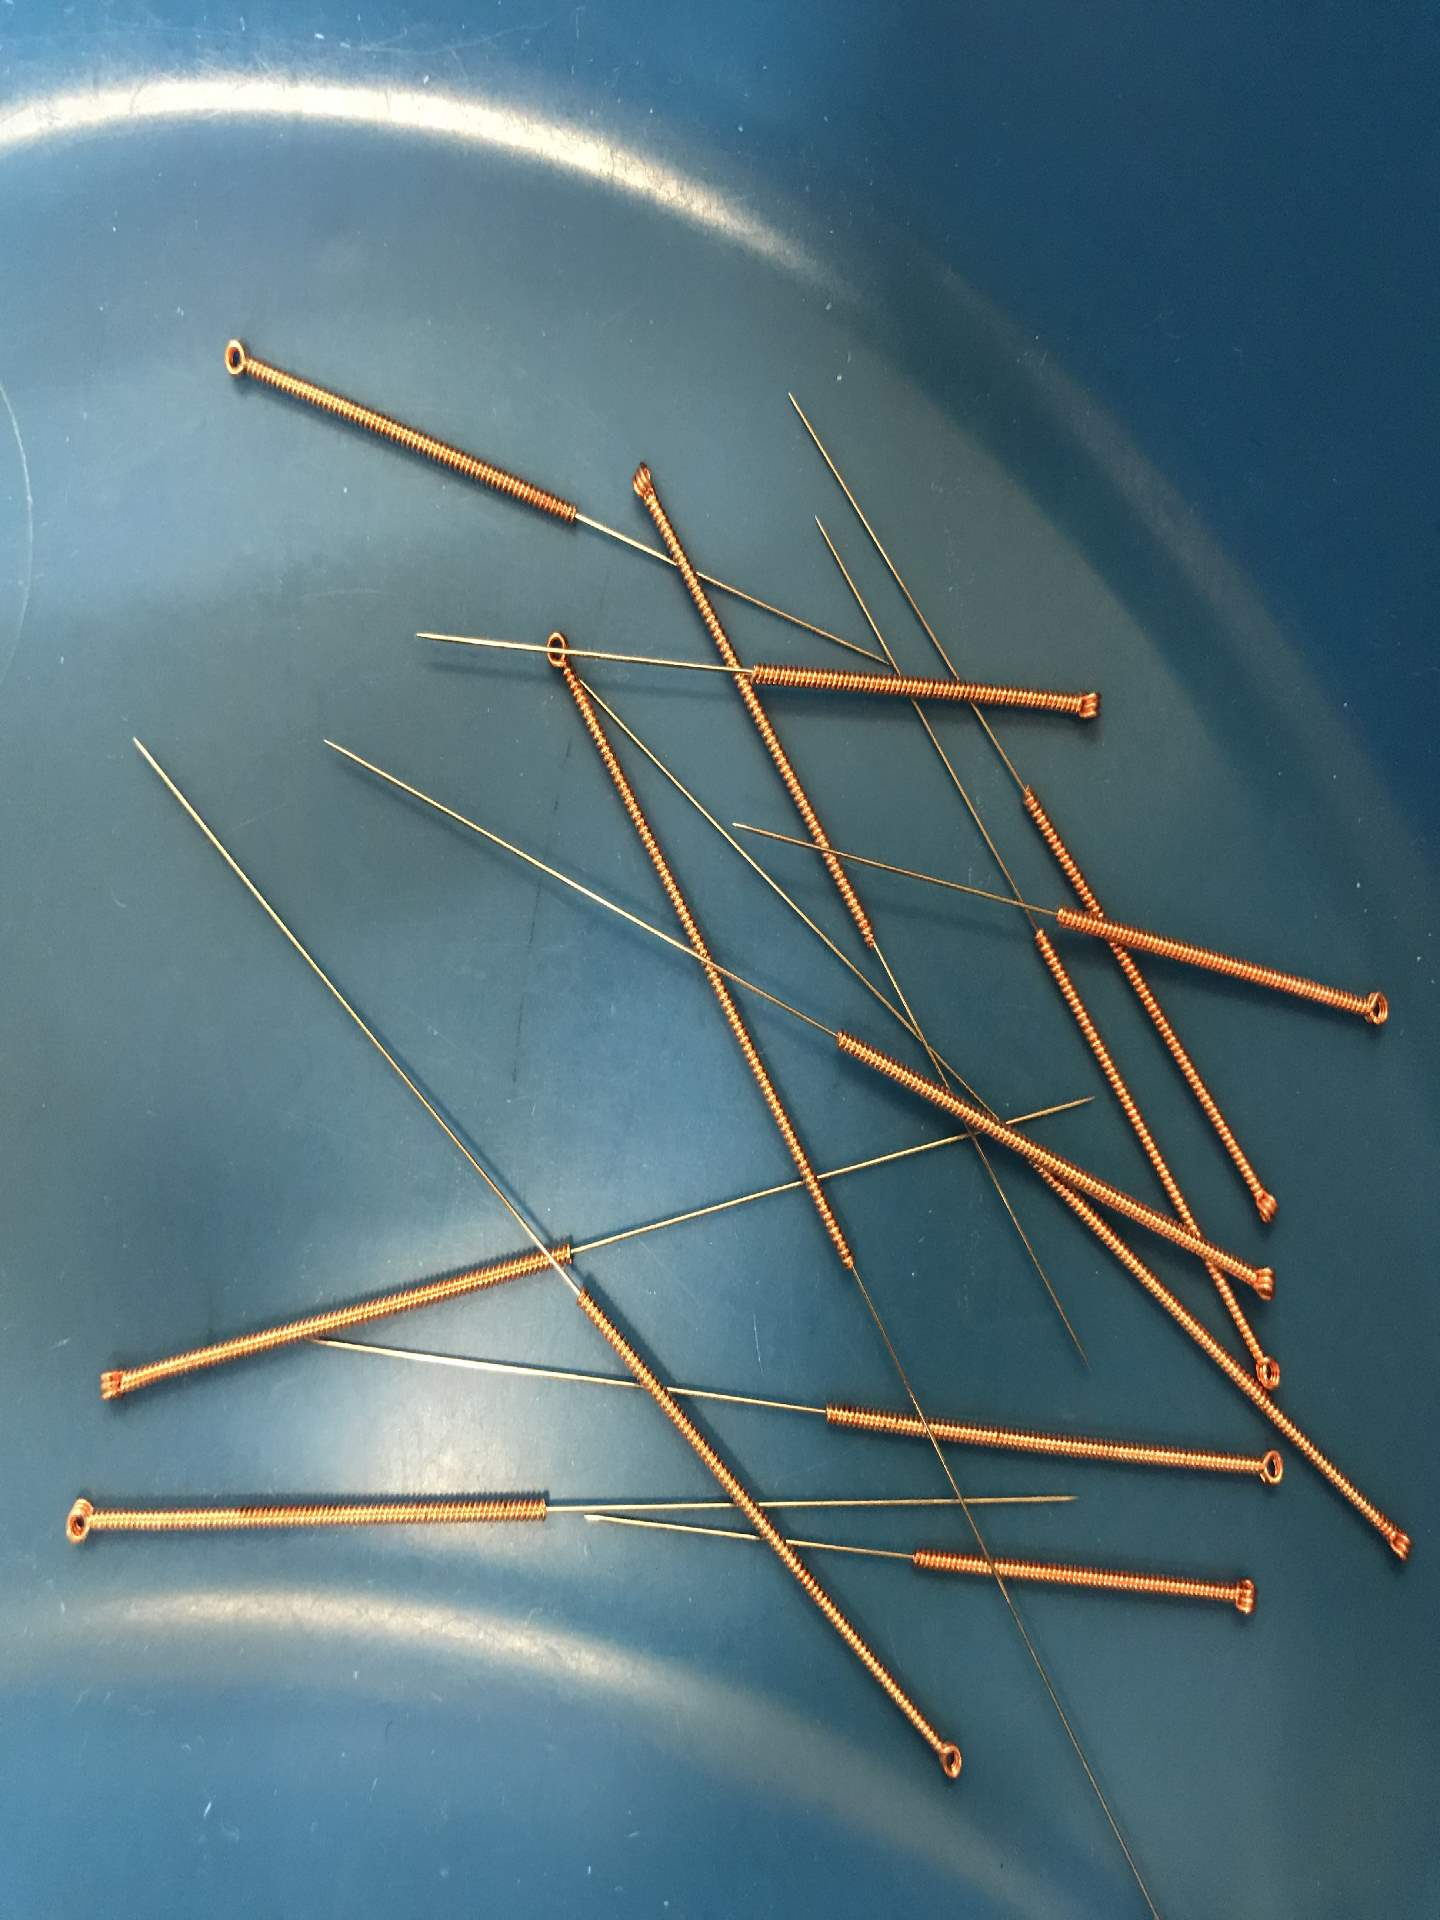needle: (54, 1482, 123, 1559), (82, 1350, 151, 1417), (909, 1723, 977, 1790), (1047, 673, 1116, 735), (204, 327, 271, 390), (531, 624, 588, 695), (1209, 1566, 1268, 1630), (1343, 974, 1399, 1040), (1369, 1507, 1423, 1575), (619, 451, 672, 519), (1237, 1439, 1296, 1498), (1234, 1166, 1287, 1229), (1249, 1329, 1293, 1398), (1234, 1256, 1286, 1311)
